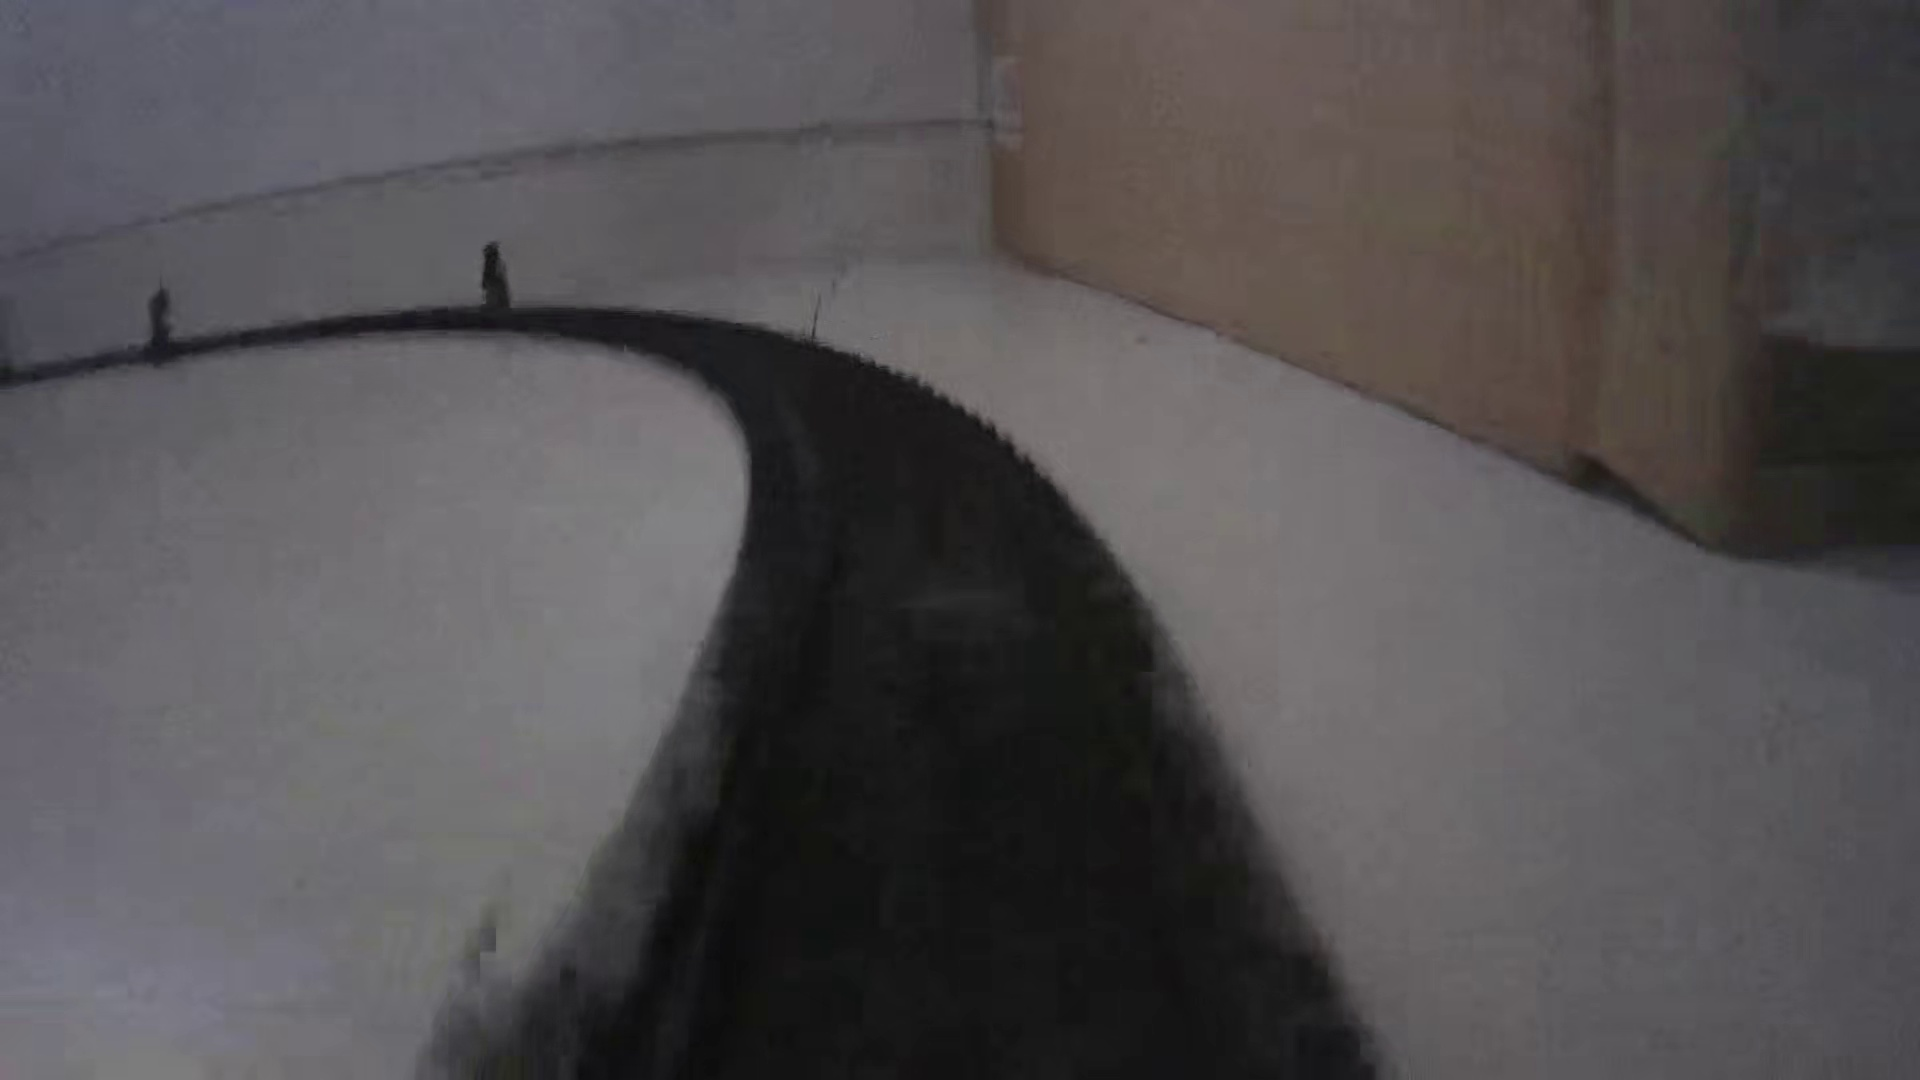people: (478, 238, 513, 320), (148, 287, 177, 363)
